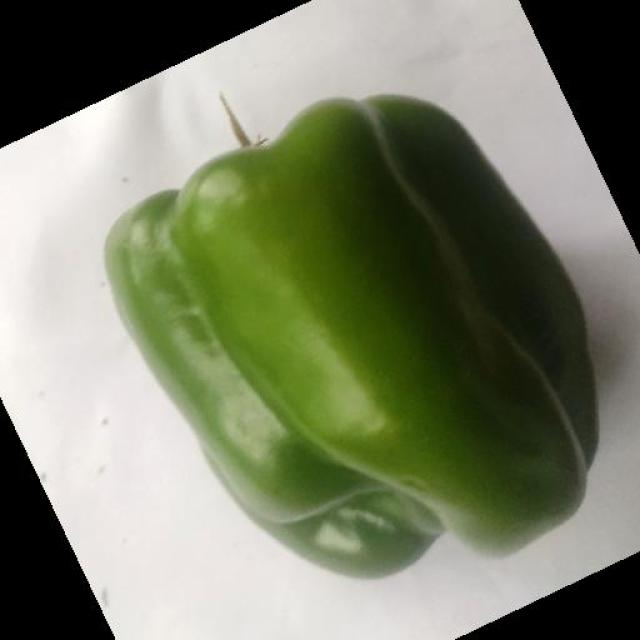Stale_Capsicum: (311, 119, 599, 497)
